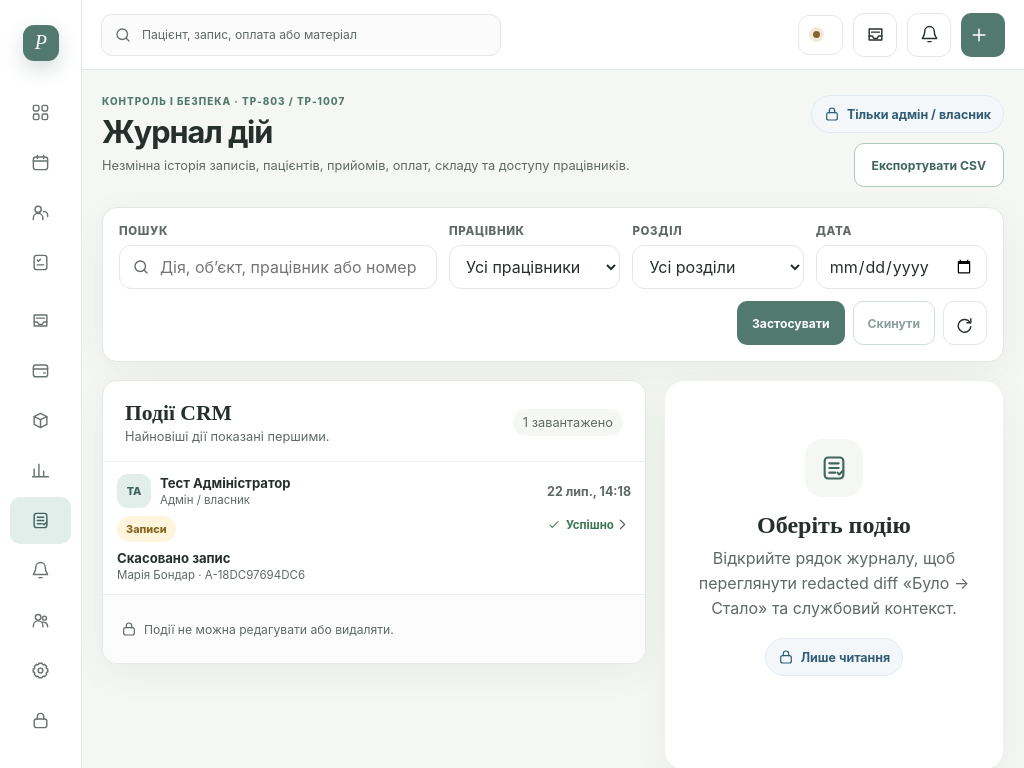
it: admin audit journal › submits employee, section, date and search filters and resets a filtered empty state
Expected: the button "Скасовано запис" is shown, [103,462,645,595]
Type "Коваль" into the field named "Пошук у журналі" at (278, 267), box [119,245,437,289]
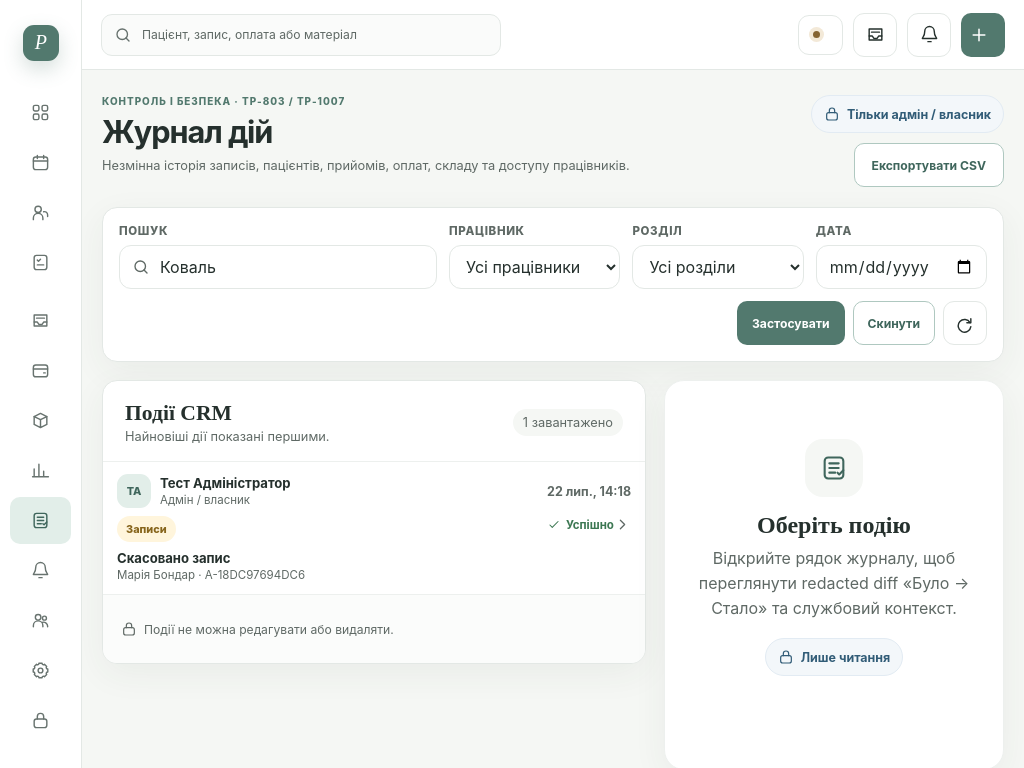
Select "Тест Адміністратор" in the dropdown labelled "Працівник" at (535, 267), box [449,245,620,289]
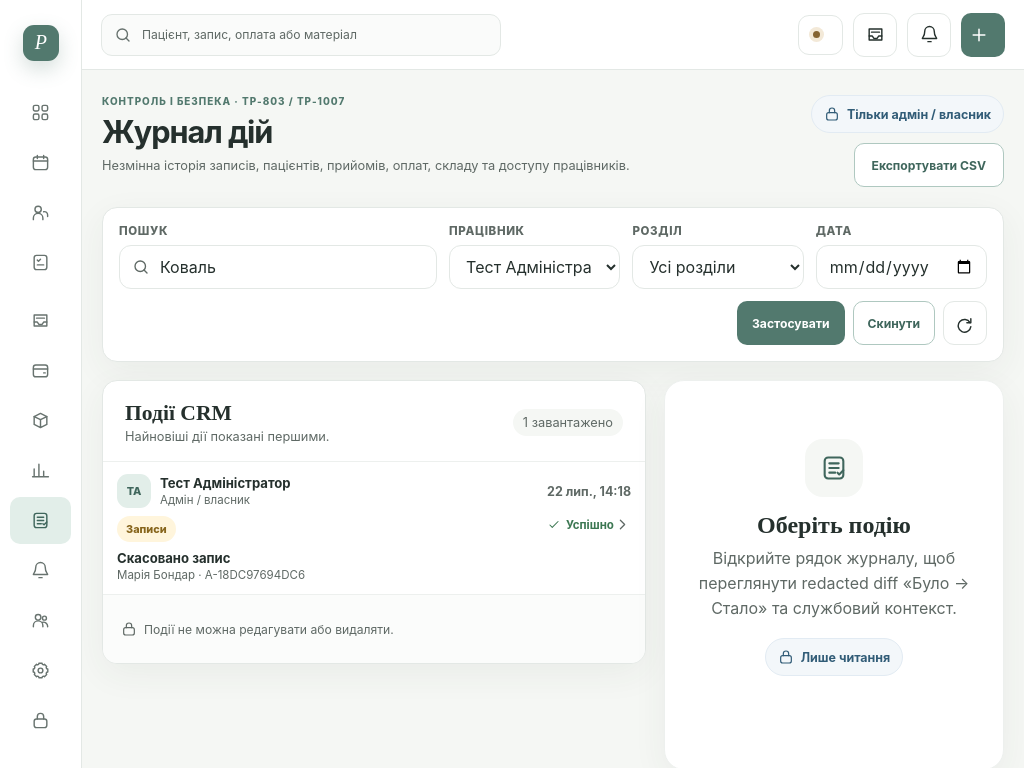
Select "Записи" in the dropdown named "Розділ журналу" at (718, 267), box [632,245,804,289]
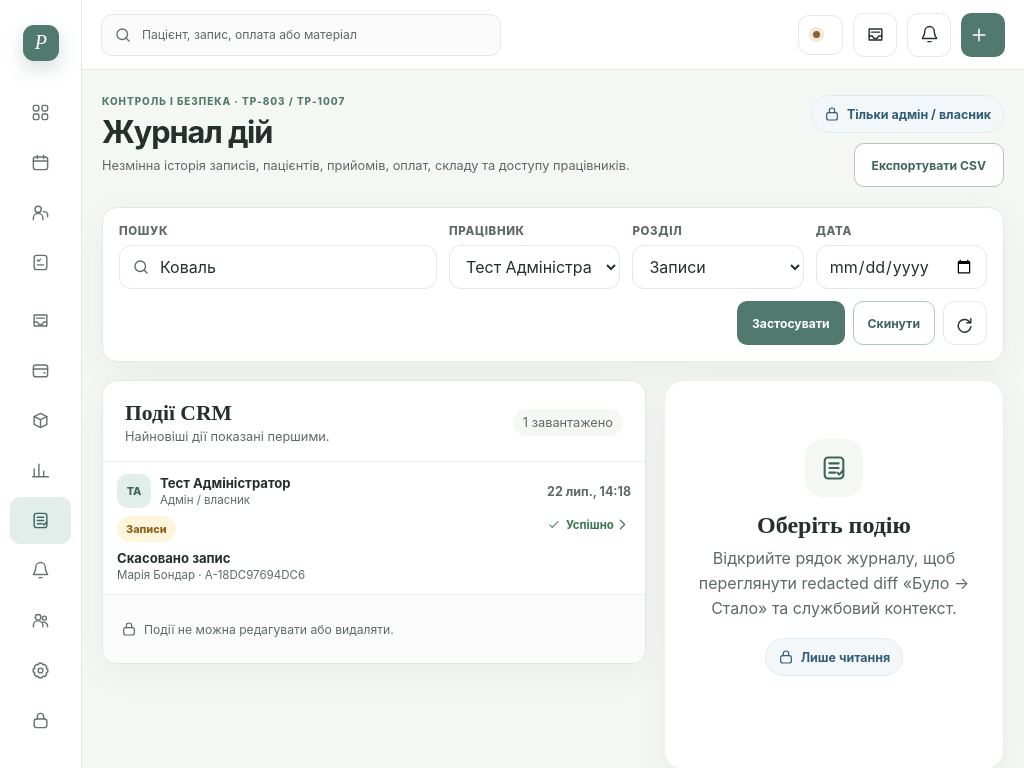
Type "2026-07-22" into the date field named "Дата події" at (901, 267), box [816,245,987,289]
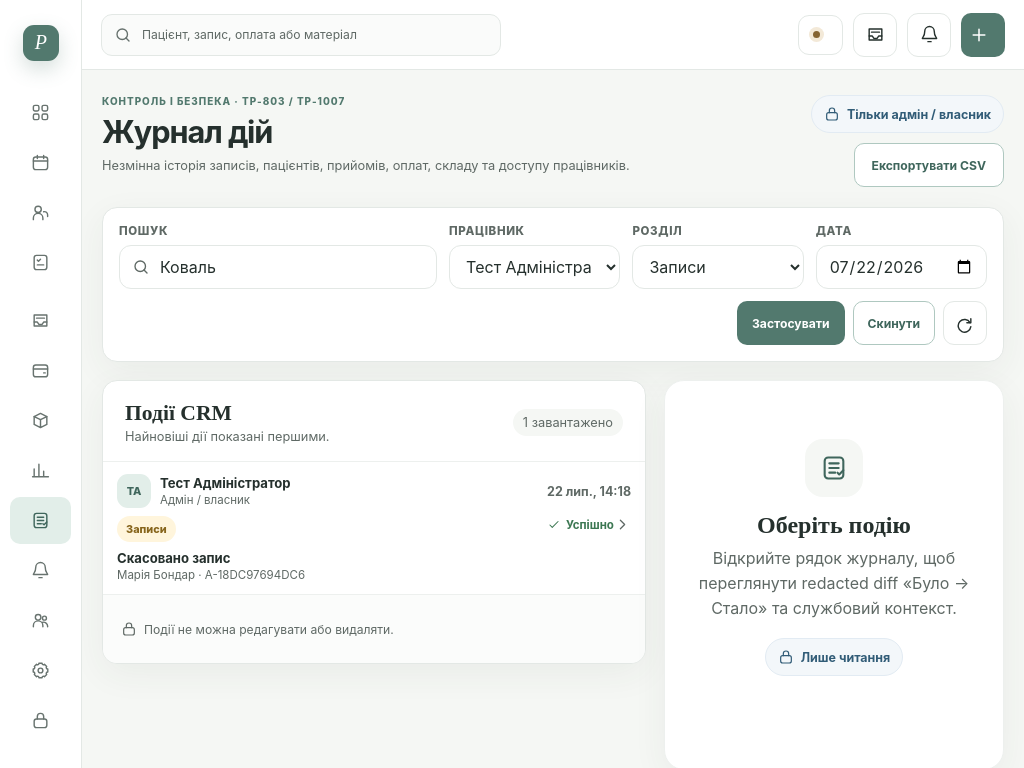
Click the button "Застосувати" at (791, 323), box [737,301,845,345]
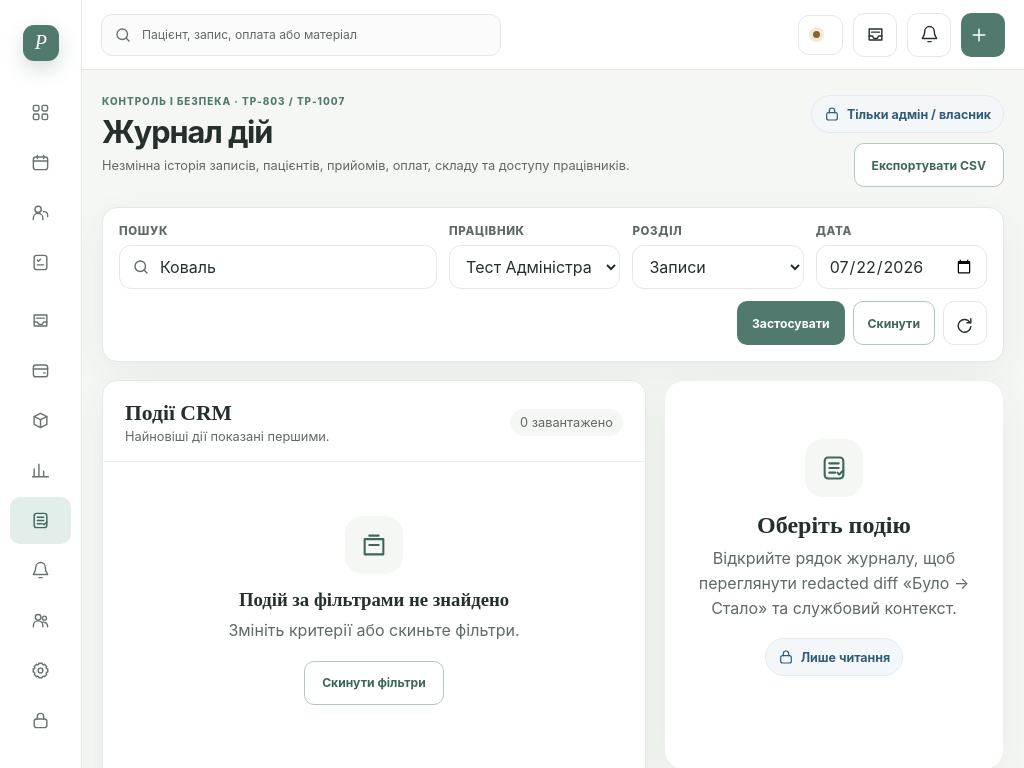
Expected: the heading "Подій за фільтрами не знайдено" is shown, [239,589,509,611]
Expected: the button "Скинути фільтри" is shown
Click the button "Скинути фільтри" at (374, 683), box [304,661,444,705]
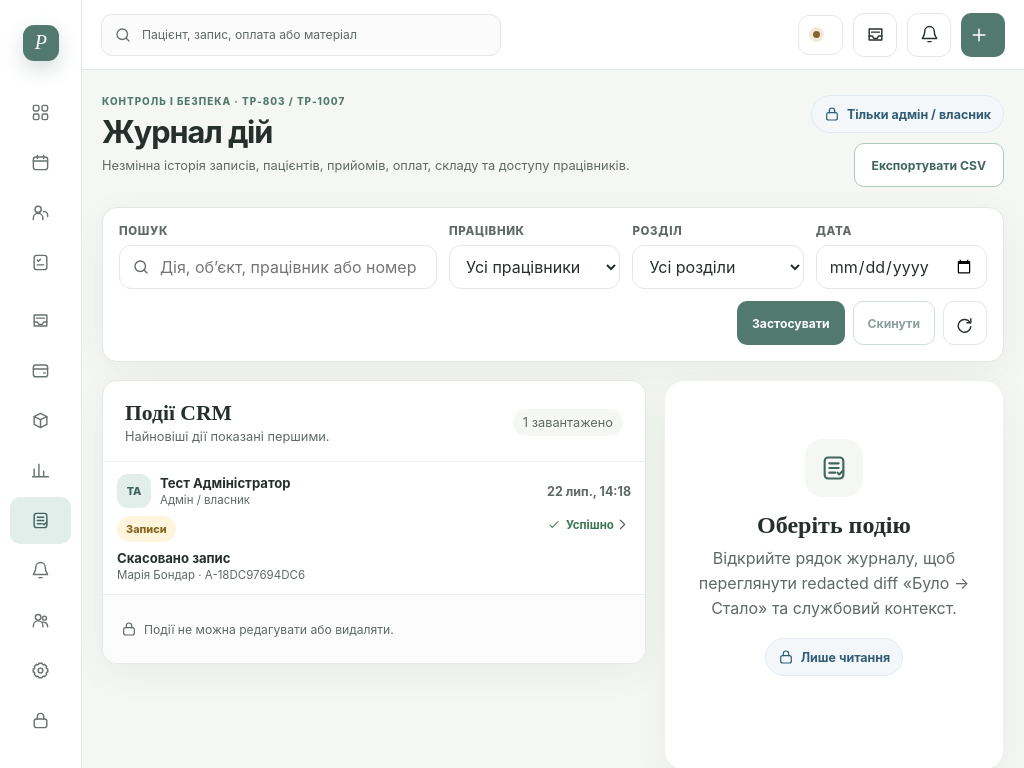
Expected: the button "Скасовано запис" is shown, [103,462,645,595]
Expected: the field named "Пошук у журналі" is empty, [119,245,437,289]
